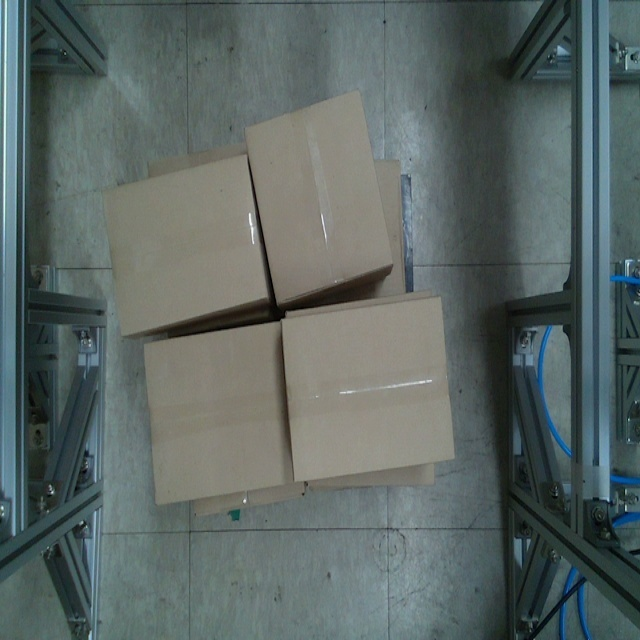box: (279, 292, 458, 484), (243, 85, 396, 309), (99, 153, 272, 339), (137, 320, 292, 511)
